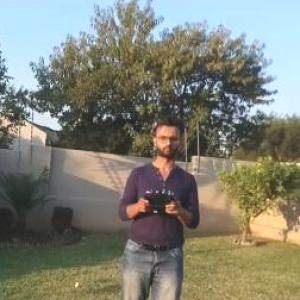follow: (111, 95, 206, 299)
